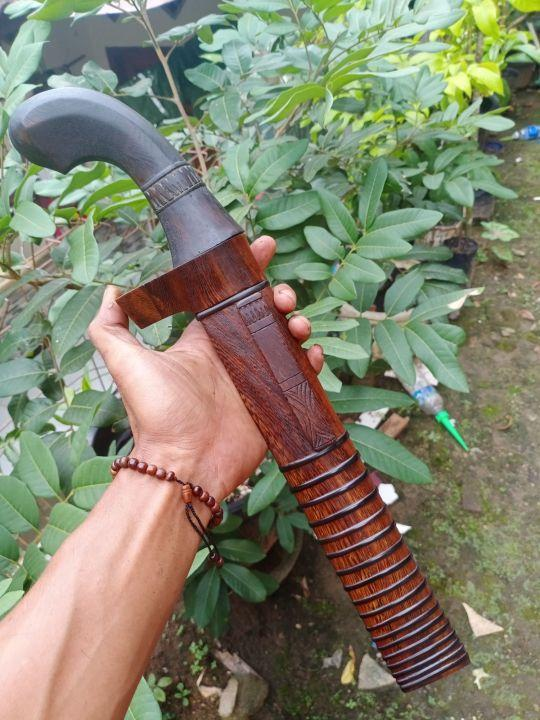facao: (9, 90, 468, 688)
